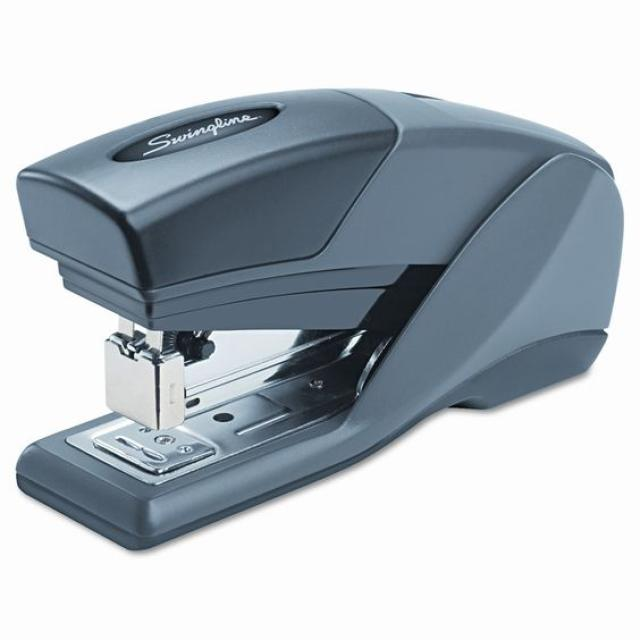Stapler: (0, 33, 640, 568)
